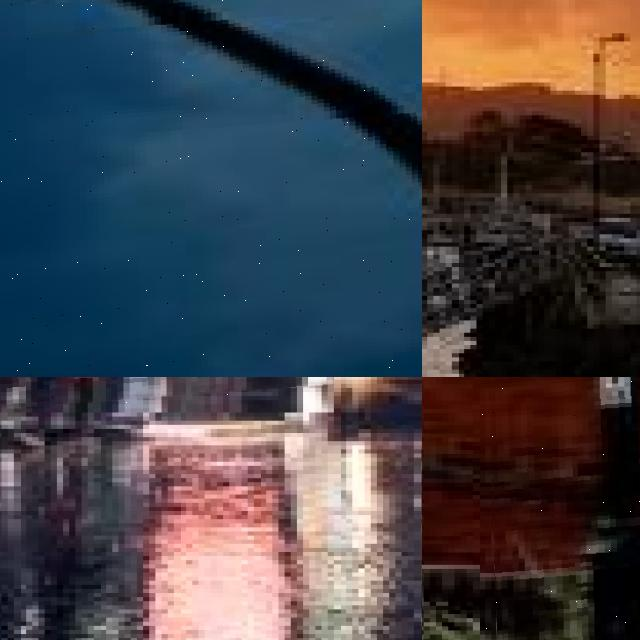street light: (0, 0, 422, 377), (479, 377, 640, 640), (594, 33, 628, 224)
